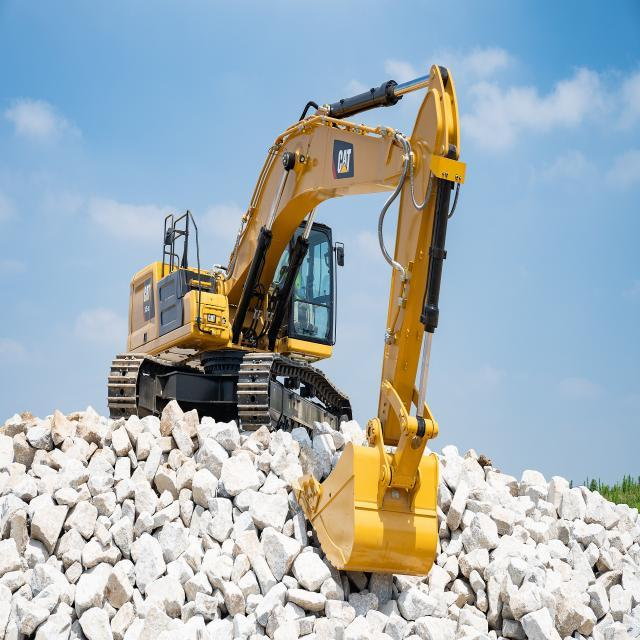C_E: (105, 65, 468, 579)
